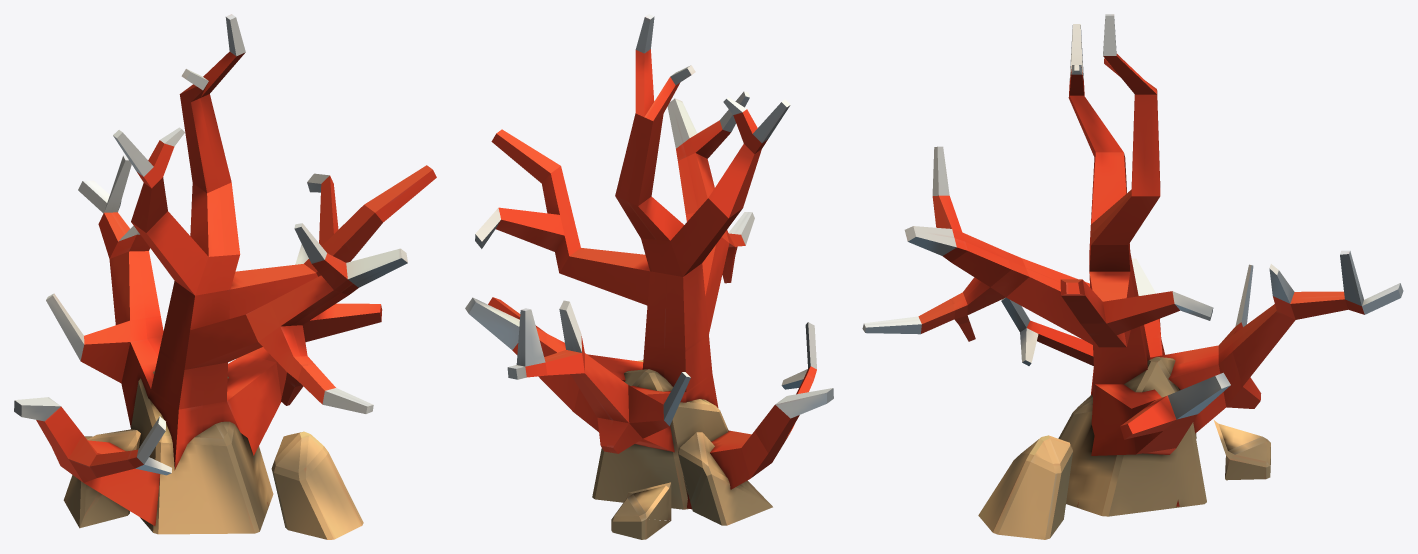
The model's file is sea_coral.glb.
3 renders of one model, left to right at view 1: azimuth 30°, elevation 25°; view 2: azimuth 150°, elevation 25°; view 3: azimuth 270°, elevation 25°, orthographic. The views are drawn at different scales.
Parts seen in each view (by area): view 1: coral; view 2: coral; view 3: coral.
Part boxes in pixels (left/top/right/bottom): coral: left=14, top=14, right=436, bottom=539; coral: left=465, top=14, right=833, bottom=539; coral: left=862, top=14, right=1403, bottom=539.
Size of the model in its own units: 1.33 by 1.59 by 1.61.
1 material, 1 textured.
